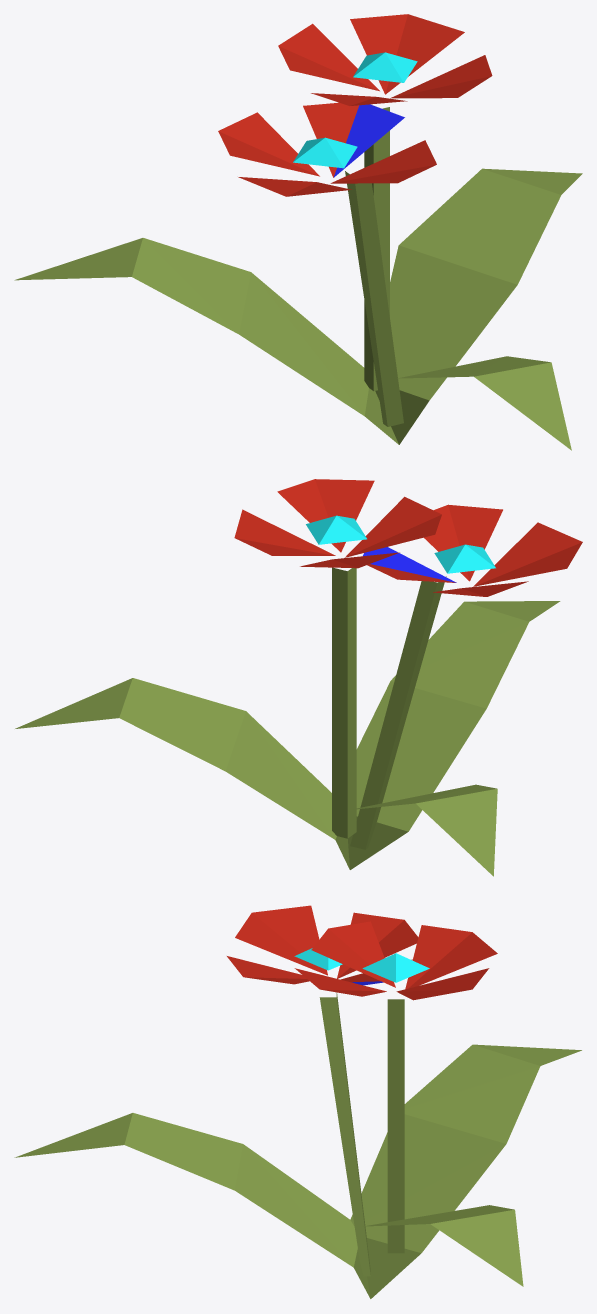
3 renders of one model, top to bottom at view 1: azimuth 30°, elevation 25°; view 2: azimuth 150°, elevation 25°; view 3: azimuth 270°, elevation 25°, orthographic. The views are drawn at different scales.
Size of the model in its own units: 66 by 45 by 67.
1 material, 1 textured.
